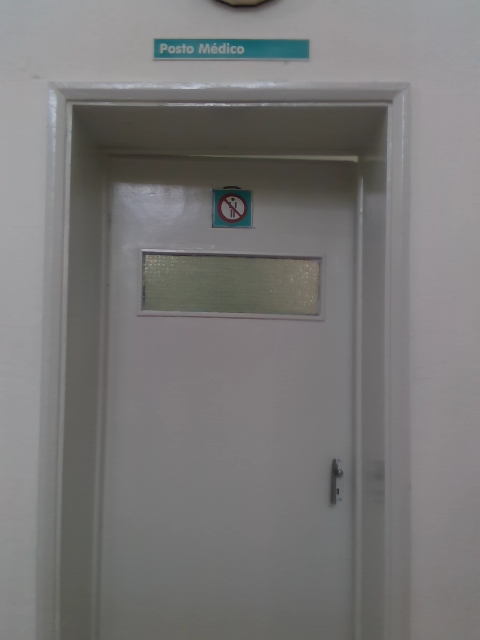closed: (47, 77, 410, 639)
